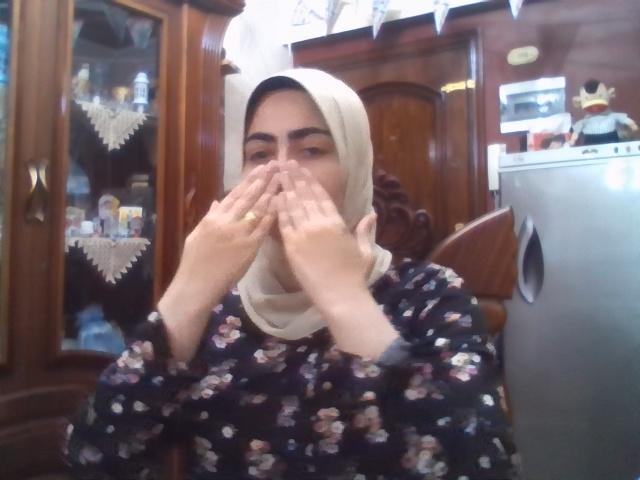thanks: (176, 158, 378, 294)
